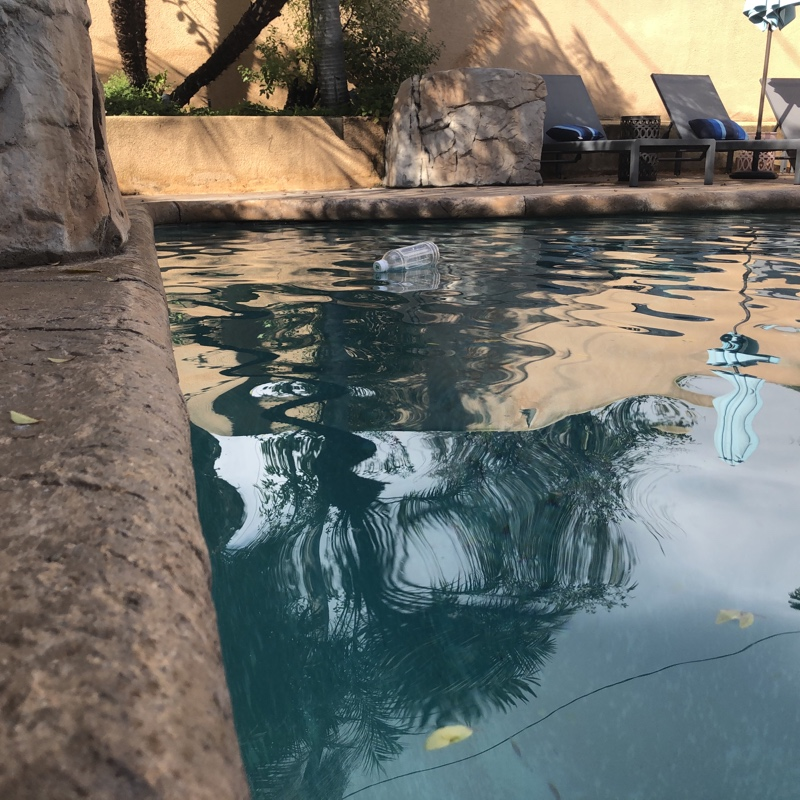Plastic Bottle: (368, 238, 446, 275)
